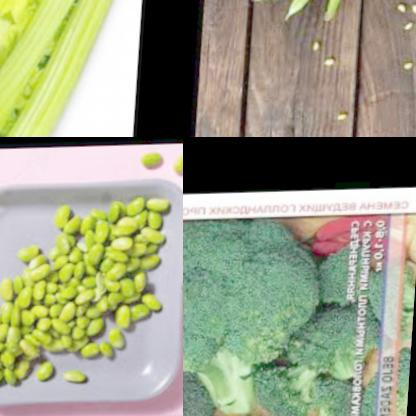beans: (0, 186, 170, 385), (130, 150, 165, 178), (170, 150, 183, 183), (394, 1, 416, 17), (334, 111, 352, 125), (400, 61, 416, 74), (398, 22, 416, 33), (312, 37, 322, 56), (325, 60, 338, 72)
broccoli: (183, 208, 326, 415), (265, 300, 399, 416), (312, 237, 387, 311)
celery: (0, 0, 136, 137)
